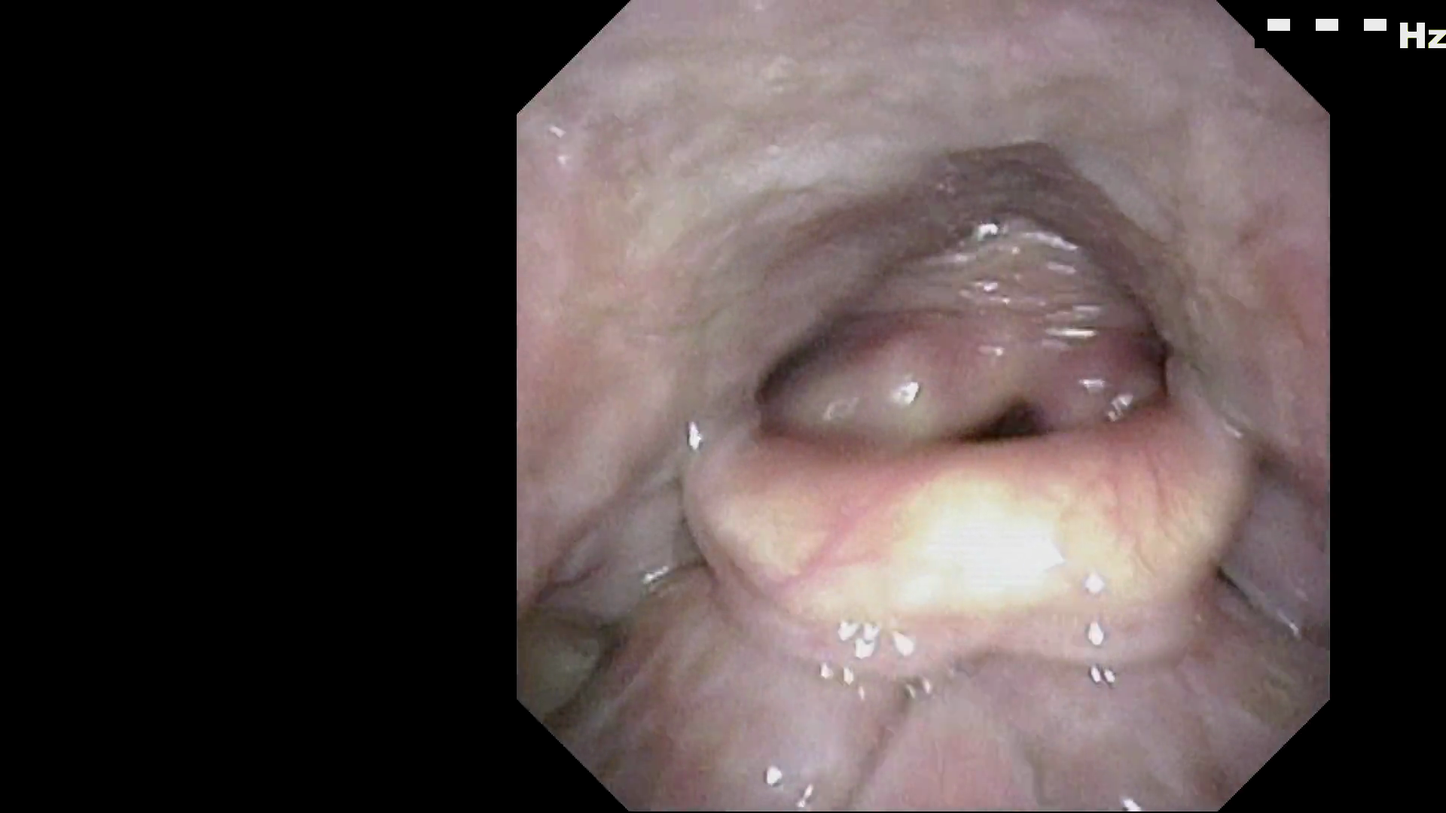epiglottis: (680, 382, 1259, 562)
trachea: (962, 390, 1056, 444)
